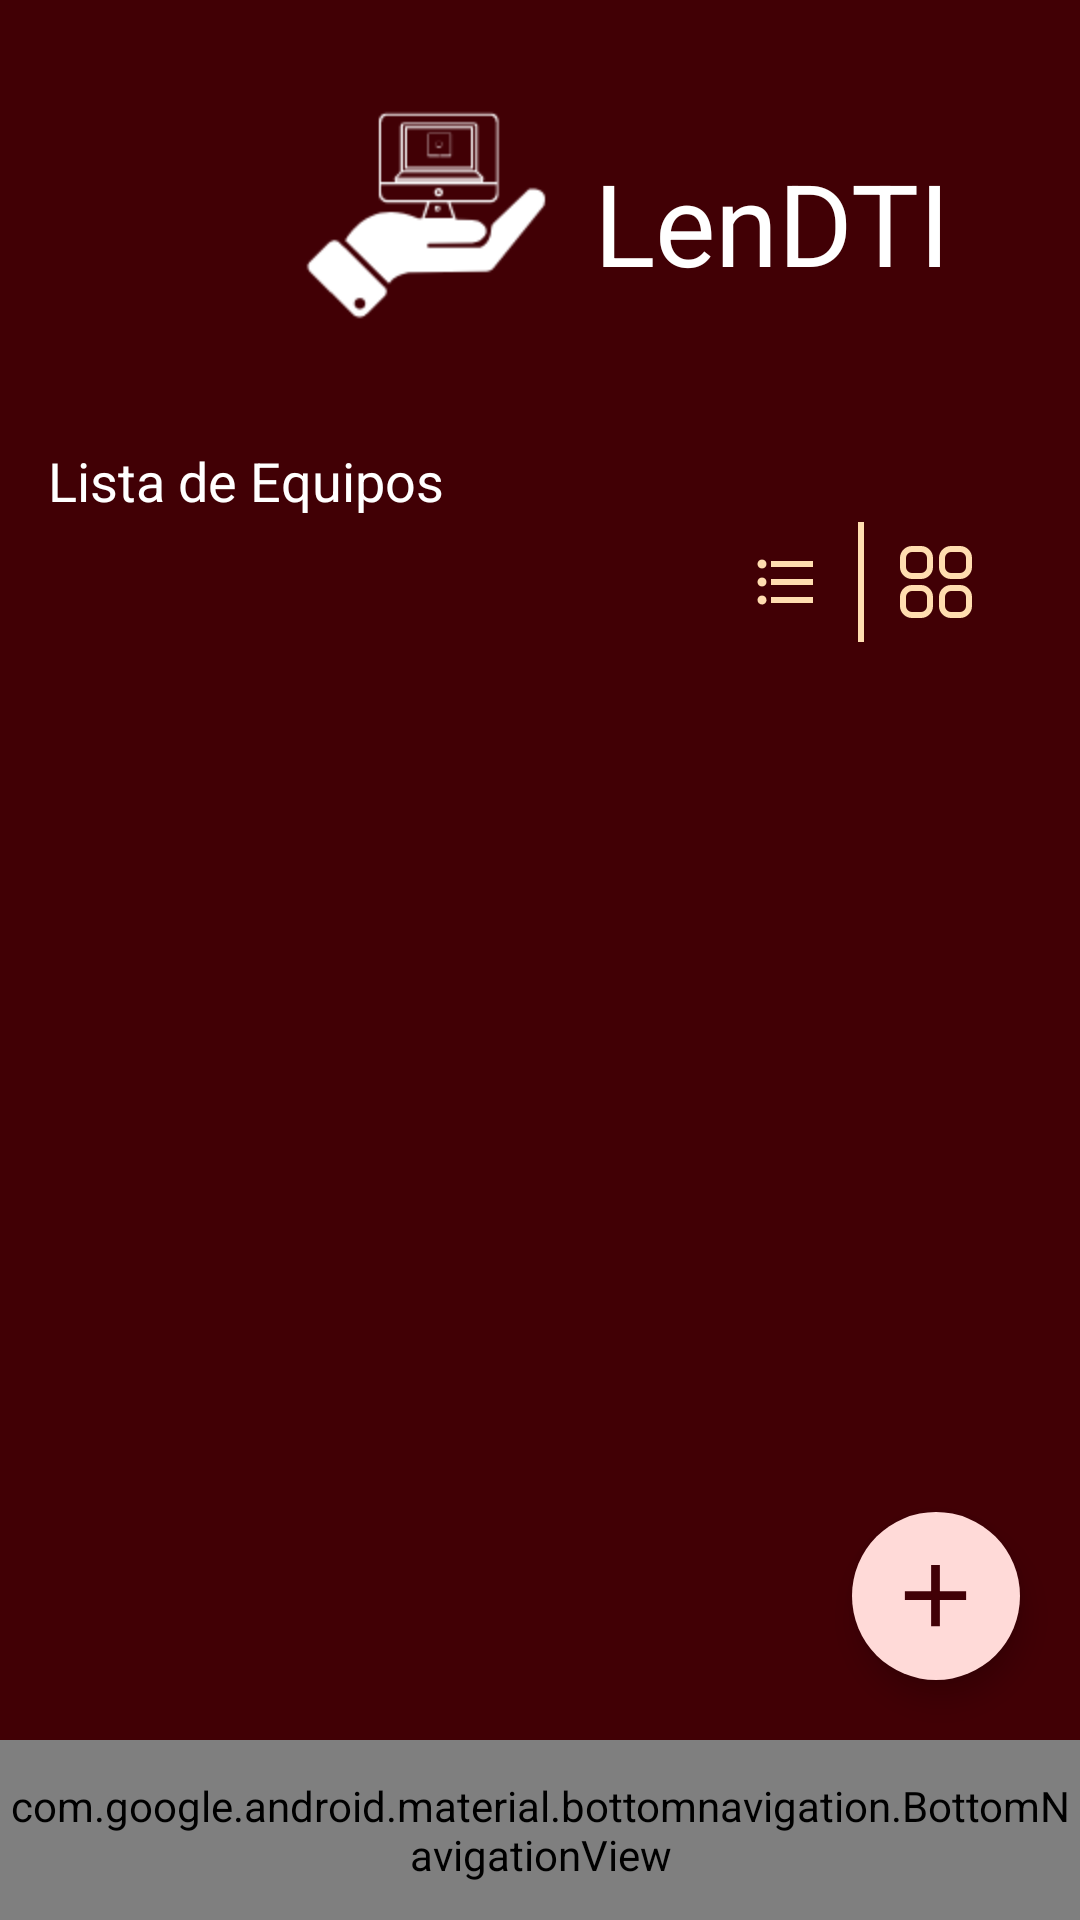

Locate icon controls on the screen. Image size 1080x1920, boxes as (x1, y1, x2, y2).
add: (852, 1512, 1020, 1680)
format list bulleted: (757, 559, 813, 605)
lista cuadro: (900, 546, 972, 618)
